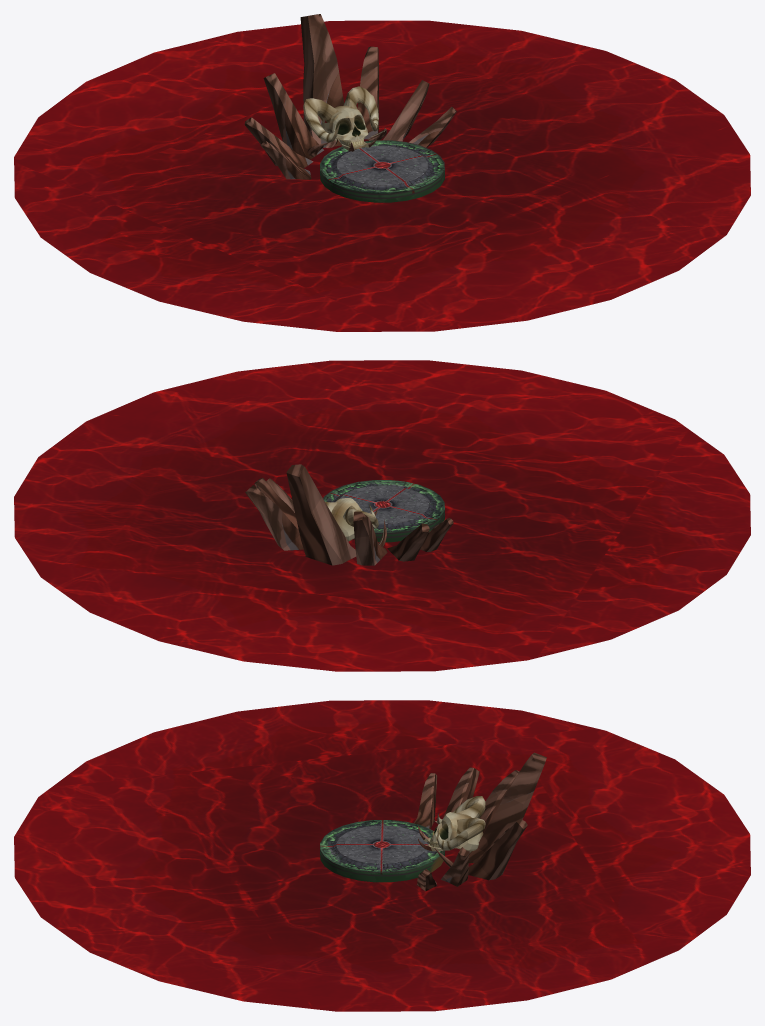
The model's file is Arene_Lilith.fbx.
3 views of the same model, one above another, from view 1: azimuth 30°, elevation 25°; view 2: azimuth 150°, elevation 25°; view 3: azimuth 270°, elevation 25° (orthographic).
Visible parts, largest first — view 1: polySurface1; view 2: polySurface1; view 3: polySurface1.
Boxes of the visible parts, bbox=[...] form: polySurface1: bbox=[14, 14, 750, 331]; polySurface1: bbox=[14, 360, 750, 671]; polySurface1: bbox=[14, 700, 750, 1011].
Bounding box in the file's own units: 913 × 205 × 913.
